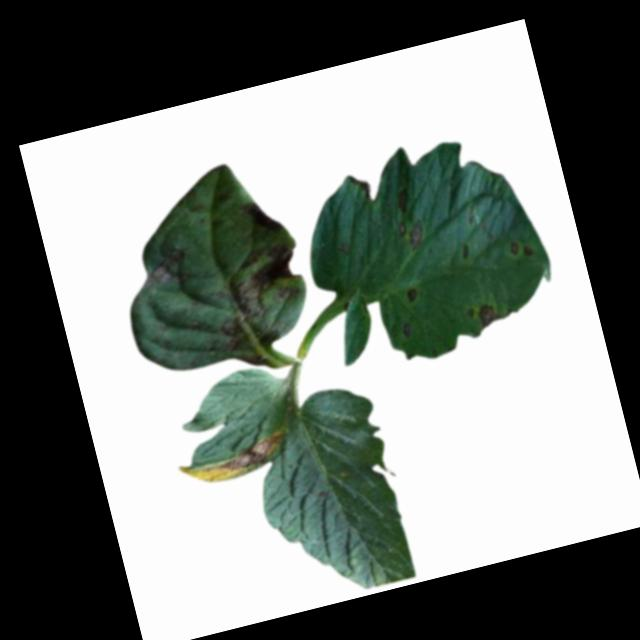Early_blight: (199, 241, 314, 356), (172, 429, 293, 493), (133, 243, 196, 294), (239, 198, 282, 239), (394, 216, 428, 254), (473, 300, 502, 333), (505, 237, 534, 264), (391, 185, 414, 217), (404, 286, 420, 308), (399, 319, 415, 338)
